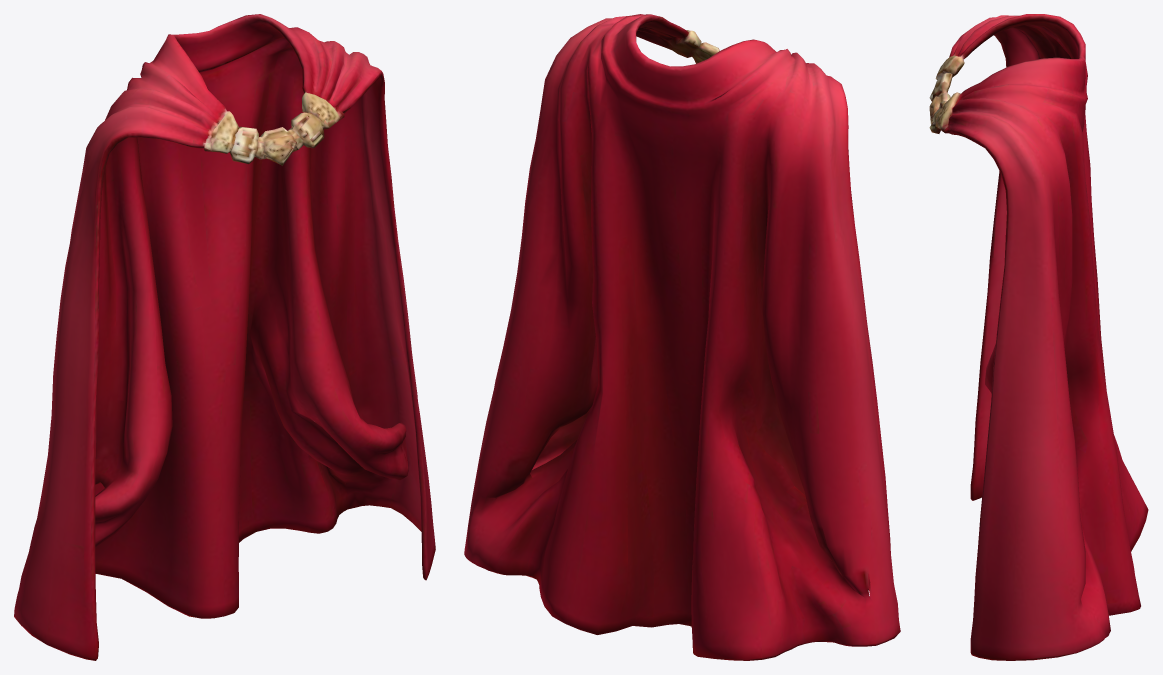
The model's file is cape.glb.
3 renders of one model, left to right at view 1: azimuth 30°, elevation 25°; view 2: azimuth 150°, elevation 25°; view 3: azimuth 270°, elevation 25°, orthographic. The views are drawn at different scales.
Visible parts, largest first — view 1: tripo_node_582897fd-8572-4af0-8c3b-feccffcfc29f; view 2: tripo_node_582897fd-8572-4af0-8c3b-feccffcfc29f; view 3: tripo_node_582897fd-8572-4af0-8c3b-feccffcfc29f.
Boxes of the visible parts, x1=… form: tripo_node_582897fd-8572-4af0-8c3b-feccffcfc29f: x1=14, y1=14, x2=435, y2=660; tripo_node_582897fd-8572-4af0-8c3b-feccffcfc29f: x1=464, y1=14, x2=900, y2=660; tripo_node_582897fd-8572-4af0-8c3b-feccffcfc29f: x1=929, y1=14, x2=1148, y2=660.
Size of the model in its own units: 0.7062 by 0.978 by 0.3464.
1 material, 1 textured.
